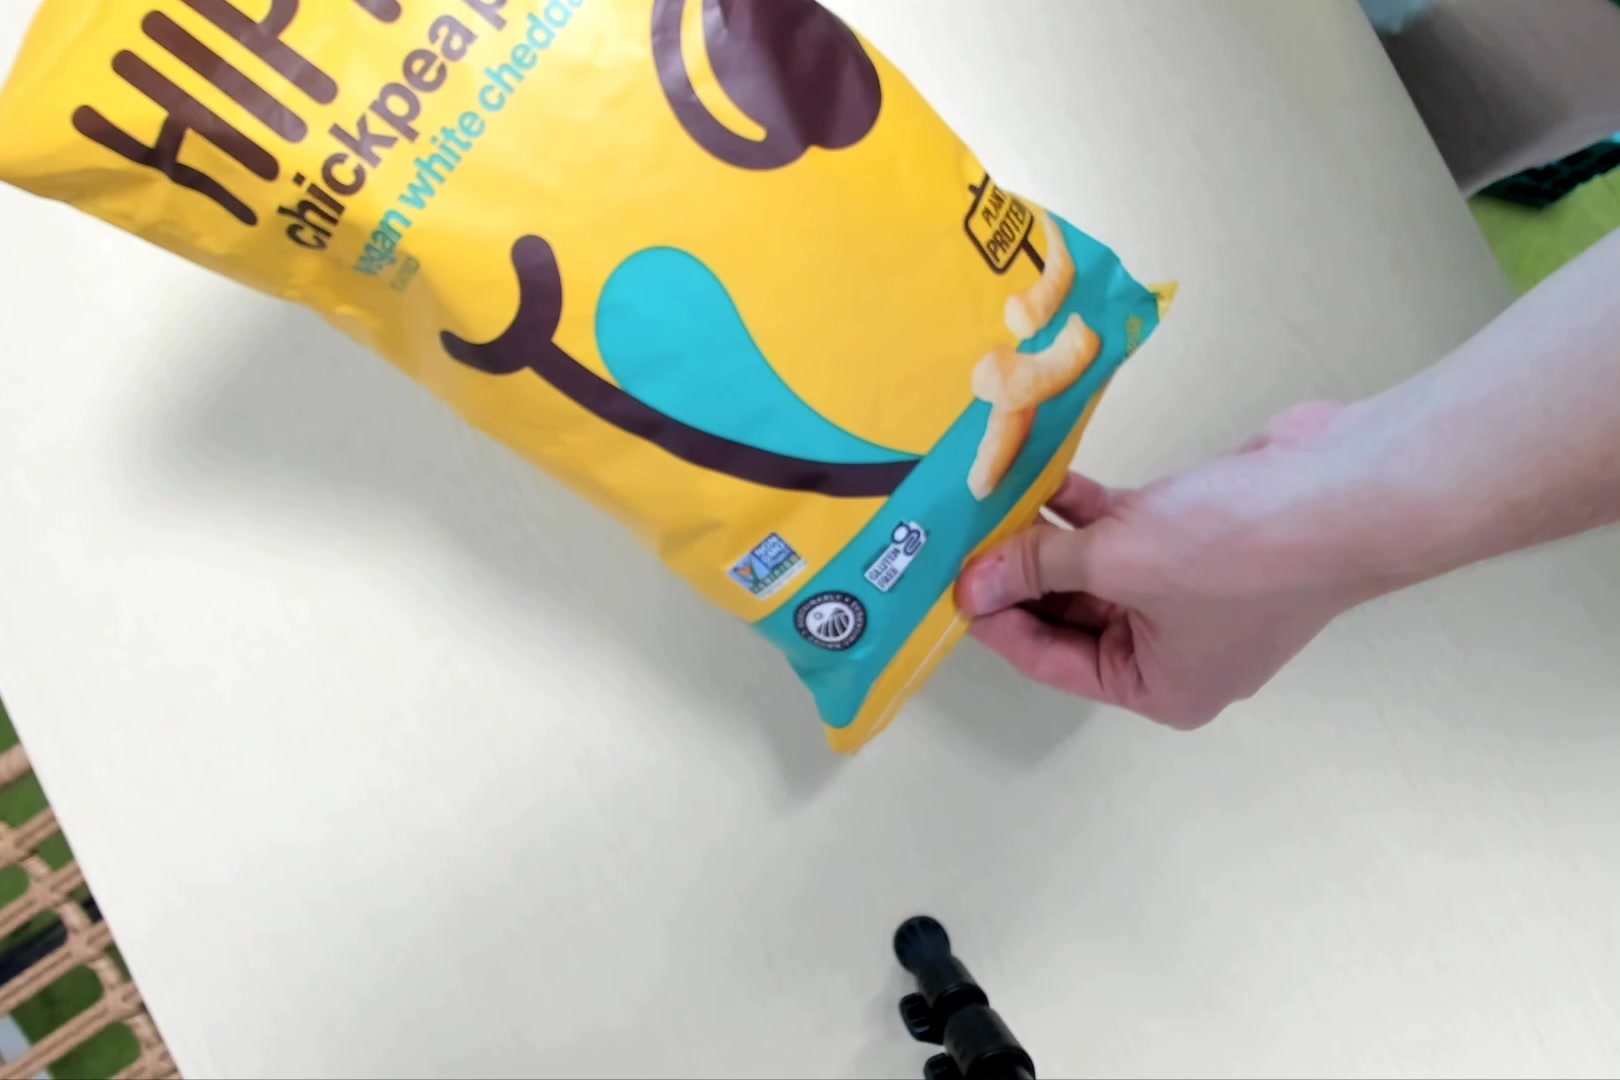PotatoChipsKeropok_100-199g_NonHalal_NonHealthy: (16, 2, 1160, 764)
